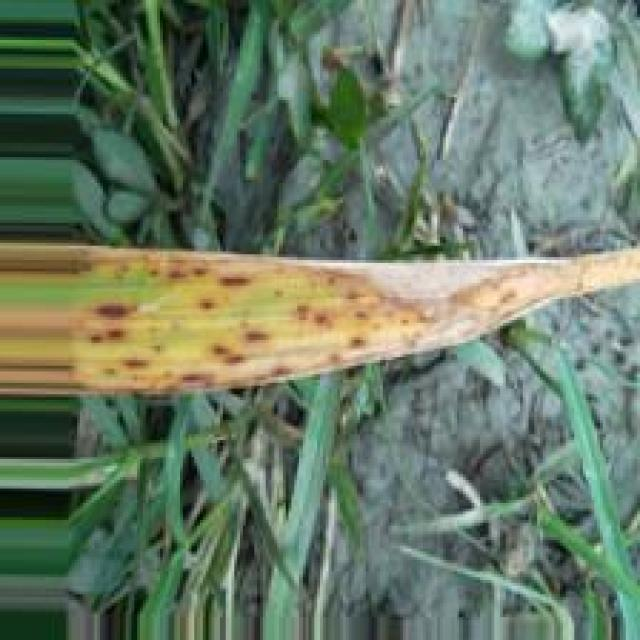Narrow_Brown_Leaf_Spot: (71, 246, 639, 397)
